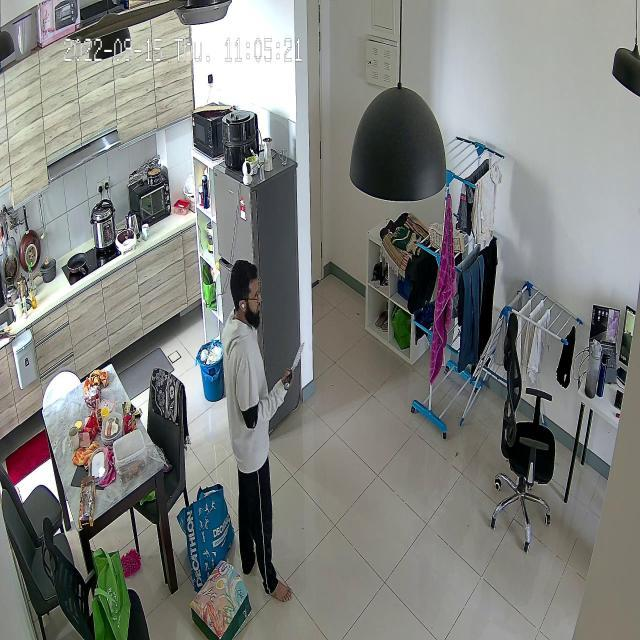Knife: (278, 337, 315, 389)
